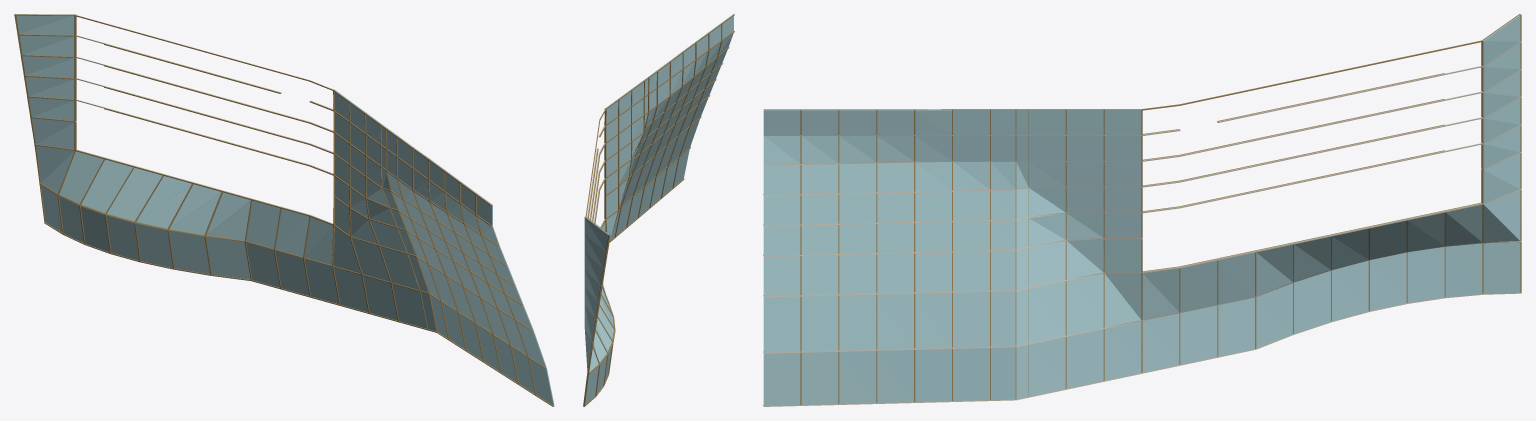
Rendered from G7_Completion_R005_Body_1_00.glb.
3 views of the same model, side by side, from view 1: azimuth 30°, elevation 25°; view 2: azimuth 150°, elevation 25°; view 3: azimuth 270°, elevation 25° (orthographic). The views are drawn at different scales.
Parts seen in each view (by area): view 1: Body_1_00_G7C3_glass_solid_skin, Body_1_00_G7C3_metal_solid_frame, Body_1_00_G7C3_shell_solid_skin; view 2: Body_1_00_G7C3_glass_solid_skin, Body_1_00_G7C3_metal_solid_frame, Body_1_00_G7C3_shell_solid_skin, Body_1_00_G7C3_metal_solid_skin; view 3: Body_1_00_G7C3_glass_solid_skin, Body_1_00_G7C3_shell_solid_skin, Body_1_00_G7C3_metal_solid_skin, Body_1_00_G7C3_metal_solid_frame.
Boxes of the visible parts, x1=… form: Body_1_00_G7C3_glass_solid_skin: x1=16, y1=14, x2=554, y2=405; Body_1_00_G7C3_metal_solid_frame: x1=14, y1=14, x2=553, y2=406; Body_1_00_G7C3_shell_solid_skin: x1=75, y1=35, x2=554, y2=406; Body_1_00_G7C3_glass_solid_skin: x1=584, y1=14, x2=733, y2=404; Body_1_00_G7C3_metal_solid_frame: x1=583, y1=14, x2=734, y2=406; Body_1_00_G7C3_shell_solid_skin: x1=583, y1=125, x2=606, y2=406; Body_1_00_G7C3_metal_solid_skin: x1=583, y1=32, x2=708, y2=405; Body_1_00_G7C3_glass_solid_skin: x1=763, y1=15, x2=1520, y2=405; Body_1_00_G7C3_shell_solid_skin: x1=763, y1=41, x2=1521, y2=406; Body_1_00_G7C3_metal_solid_skin: x1=800, y1=14, x2=1521, y2=404; Body_1_00_G7C3_metal_solid_frame: x1=763, y1=14, x2=1519, y2=405.
Size of the model in its own units: 49.67 by 45.5 by 120.
3 materials, 2 textured.
